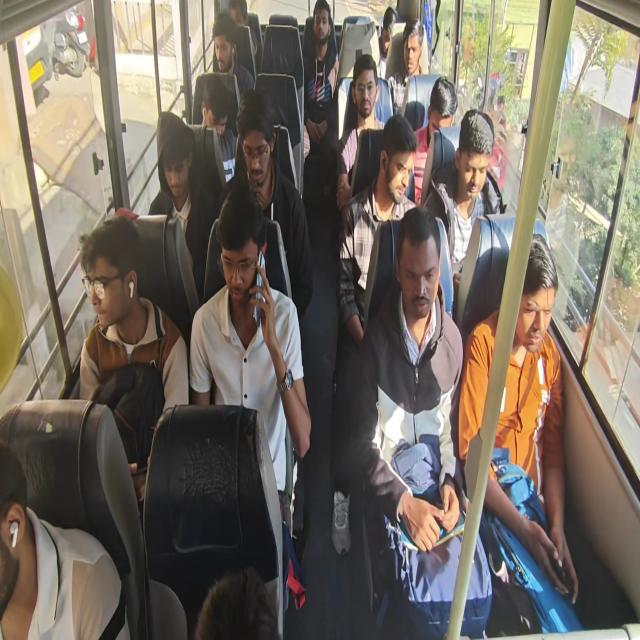person: (82, 228, 157, 356), (0, 428, 41, 607), (453, 118, 509, 227), (518, 242, 562, 362), (380, 116, 426, 212), (217, 208, 261, 302), (396, 219, 438, 311), (239, 106, 276, 190), (154, 111, 193, 190), (350, 60, 387, 142), (193, 84, 232, 148), (212, 18, 244, 88), (421, 71, 453, 140), (309, 6, 340, 55), (376, 5, 403, 52), (398, 26, 422, 76)
